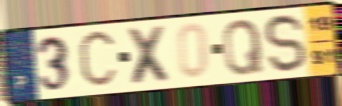0: (175, 20, 210, 82)
3: (35, 33, 77, 95)
C: (76, 26, 120, 93)
Q: (221, 17, 266, 78)
S: (262, 12, 309, 77)
X: (124, 24, 176, 87)
